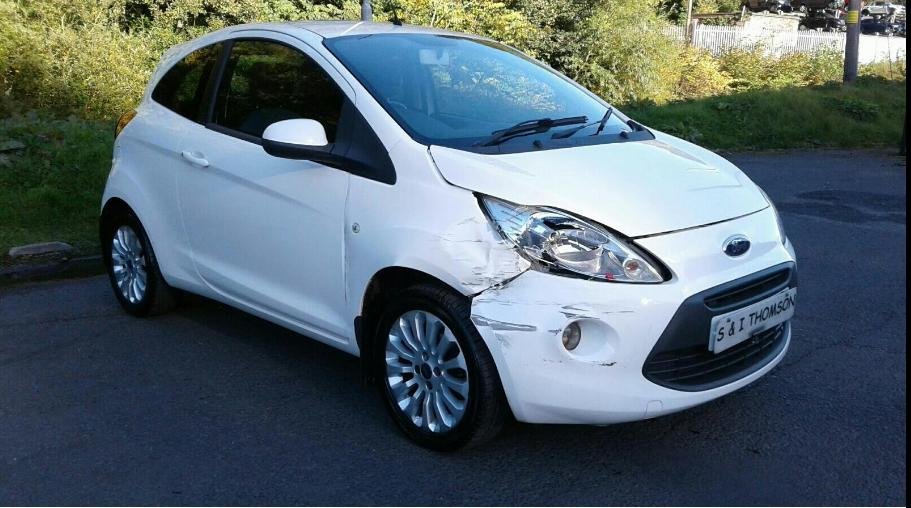Back-wheel: (104, 208, 179, 316)
Back-window: (151, 40, 225, 122)
Fender: (343, 135, 535, 353)
Front-bumper: (470, 204, 796, 426)
Front-door: (177, 30, 356, 343)
Front-wheel: (373, 280, 510, 452)
Front-window: (215, 40, 343, 143)
Grille: (643, 262, 798, 391)
Headlight: (479, 194, 663, 282), (758, 186, 787, 246)
Hood: (429, 126, 771, 238)
License-plate: (709, 288, 797, 353)
Mirror: (263, 119, 334, 162)
Quarter-panel: (101, 98, 208, 285)
Rocker-panel: (158, 265, 360, 357)
Roof: (242, 21, 497, 41)
Tail-light: (114, 109, 138, 141)
Windshield: (322, 34, 633, 148)
